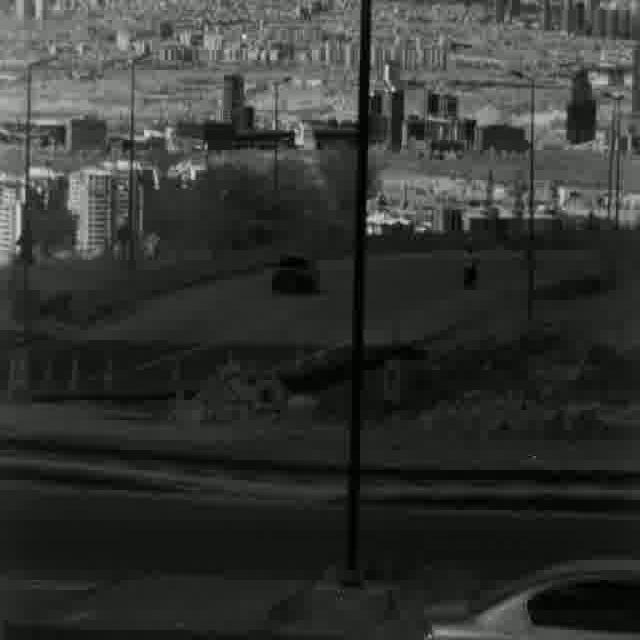Car: (422, 539, 640, 640), (271, 250, 323, 296)
Motorcycle: (462, 236, 481, 292)
